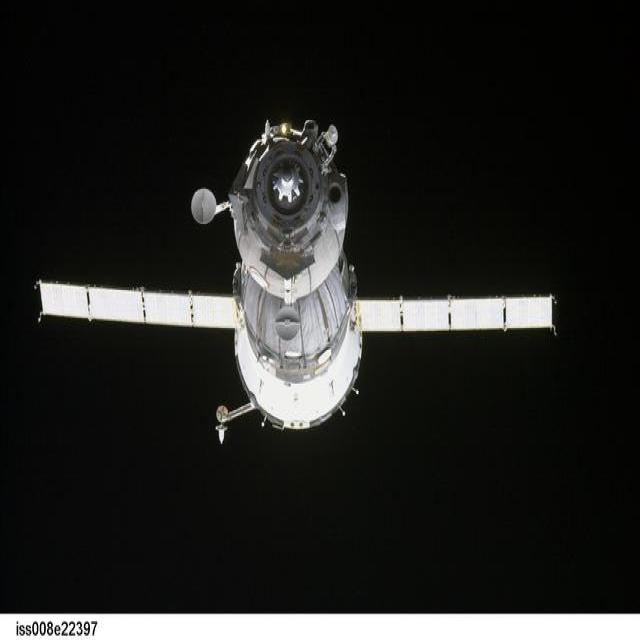satellite: (40, 121, 552, 440)
